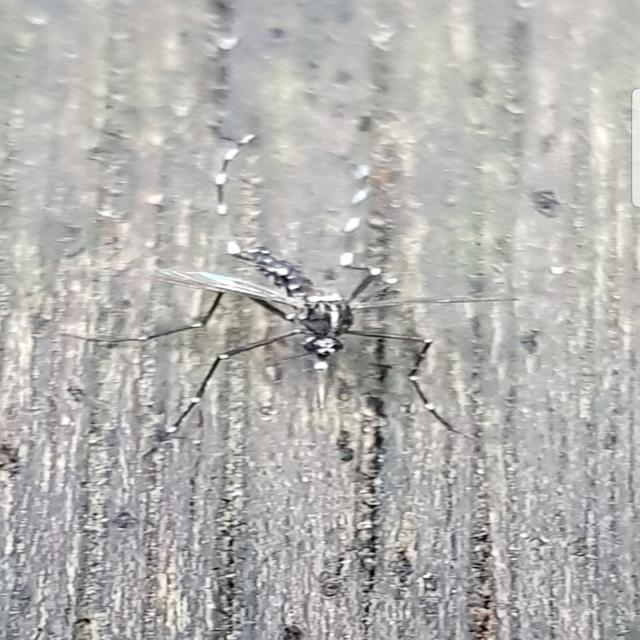albopictus: (41, 206, 527, 501)
